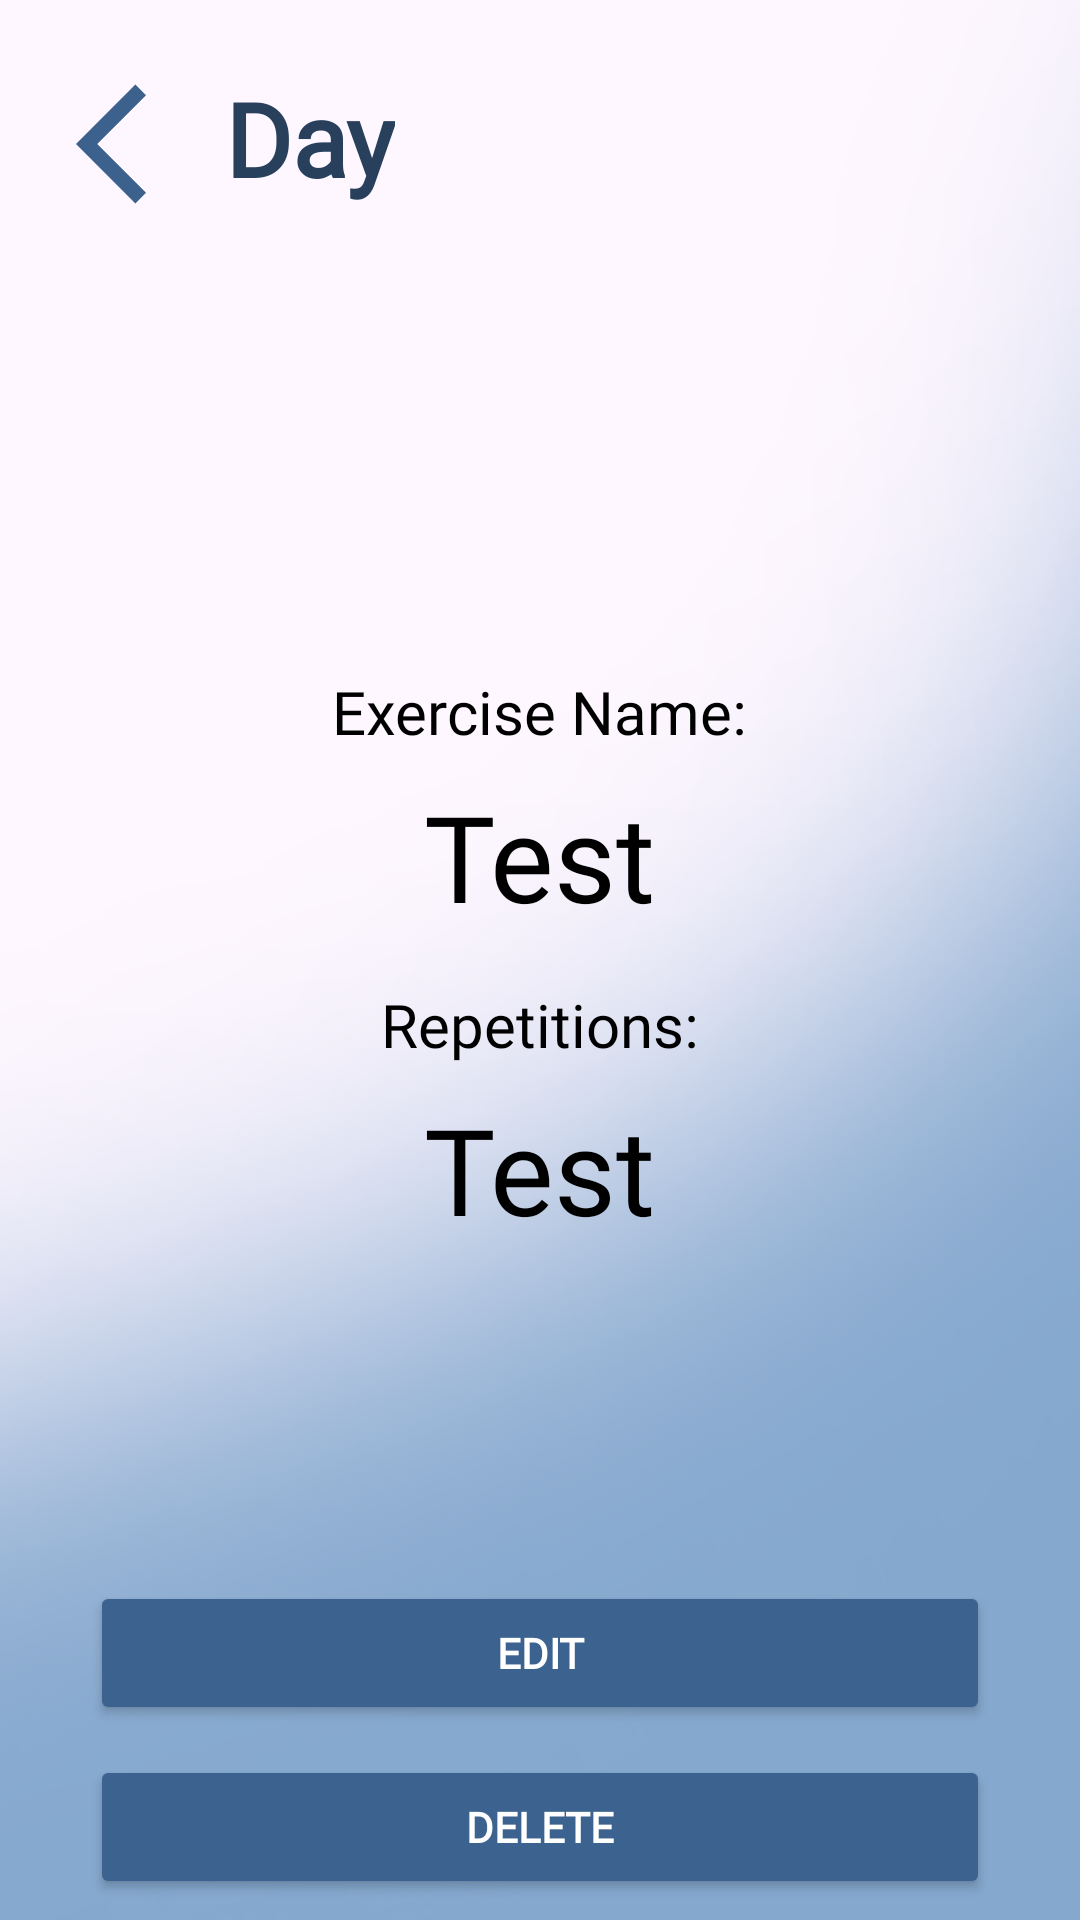

Point at icon controls on the screen. Image size 1080w x 1920h, points as [x,y].
arrow back: [111,144]
